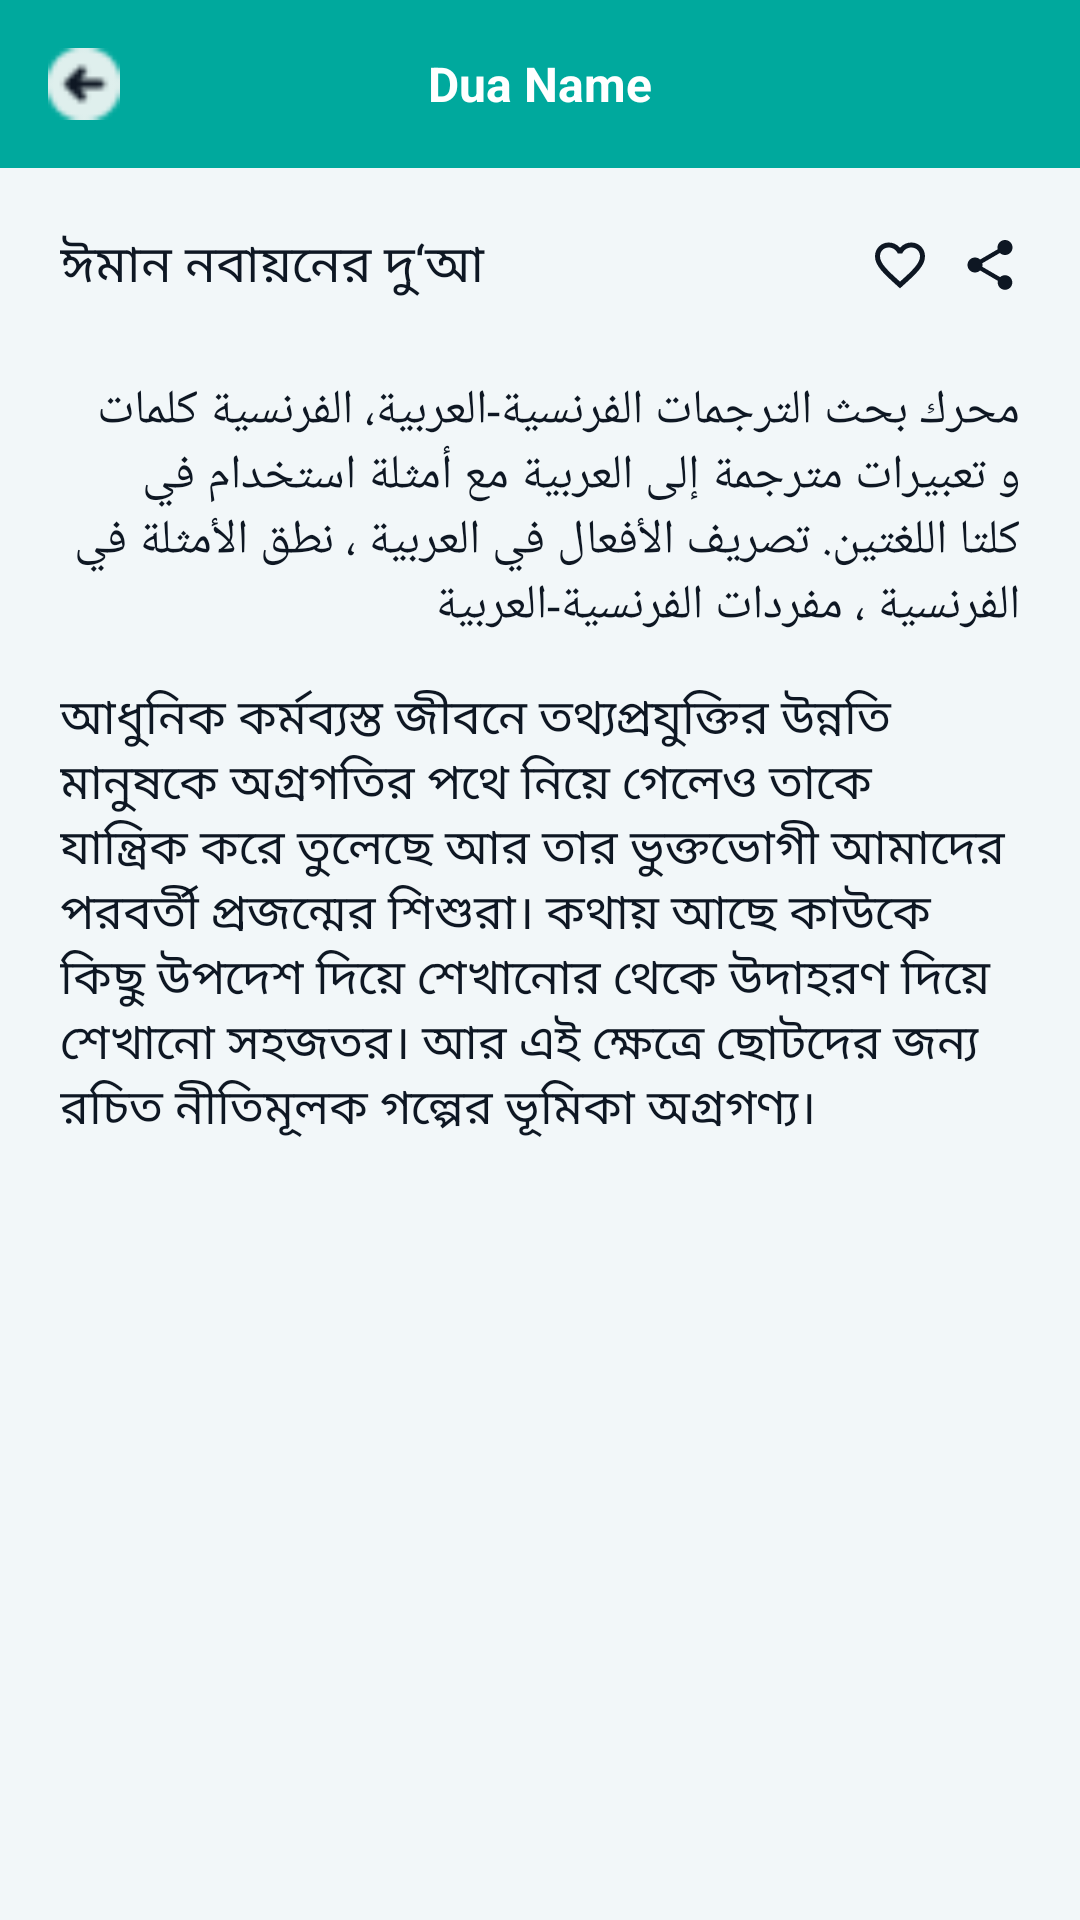

Named icons in this screenshot (1080 × 1920) and their centers, [x,y]:
favorite border: [900,265]
previous: [84,84]
share: [990,265]
